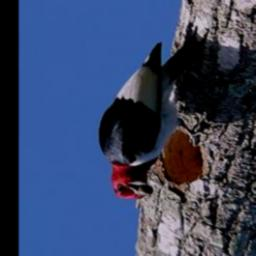Woodpecker: (95, 22, 217, 211)
